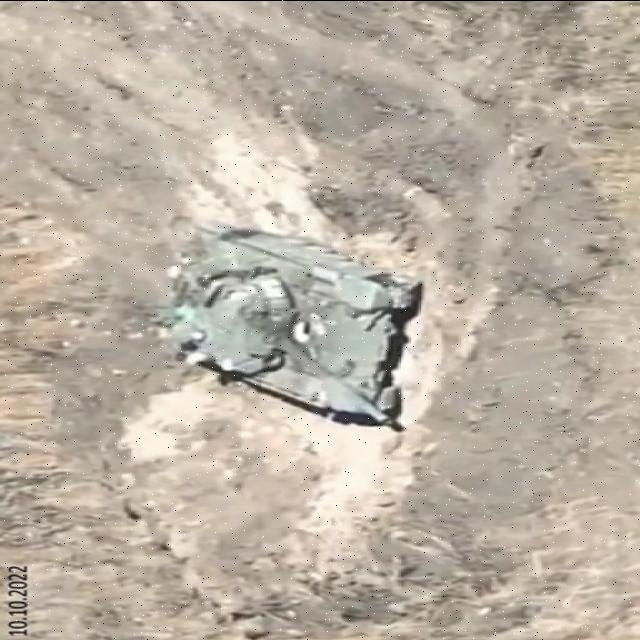TANK: (160, 221, 427, 430)
